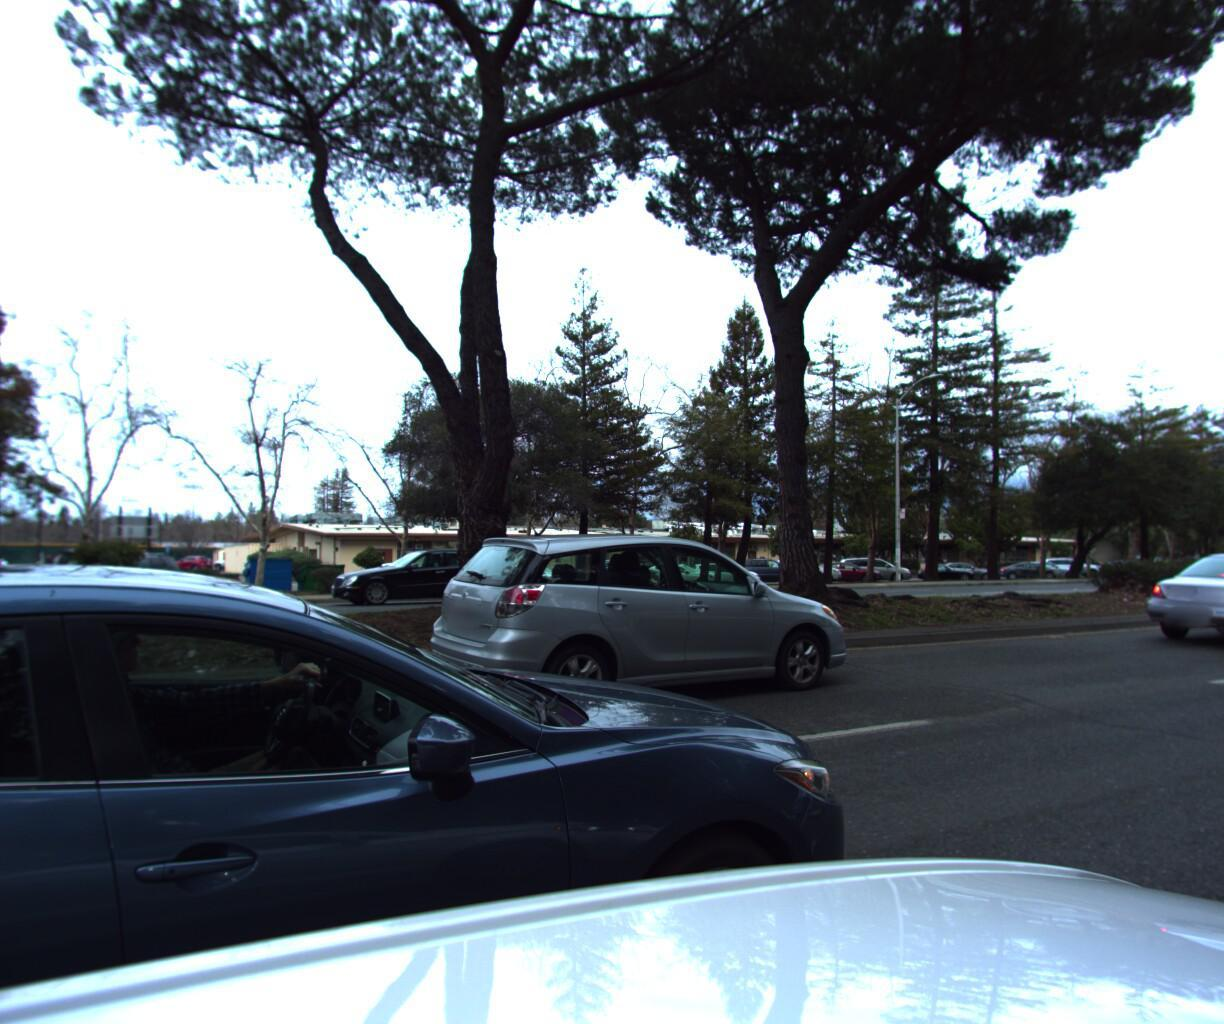car: (0, 564, 931, 1024), (406, 514, 879, 741), (318, 544, 516, 607), (1123, 539, 1224, 663)
